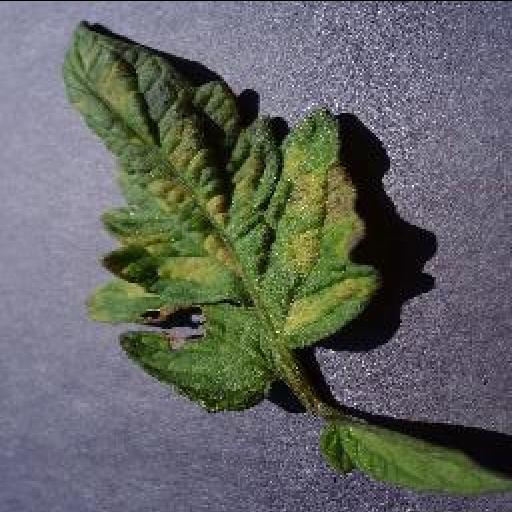disease_tomato: (66, 17, 380, 413)
